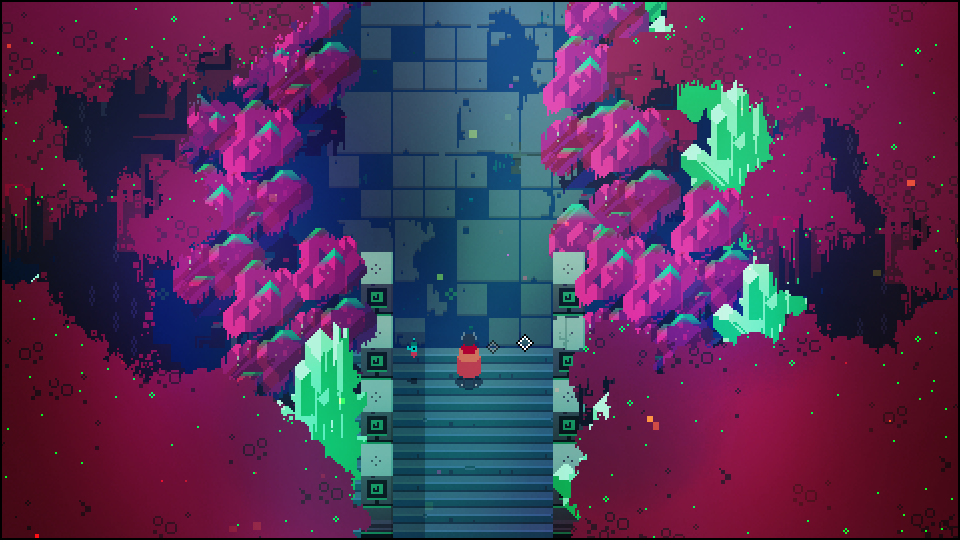player: (457, 330, 482, 388)
